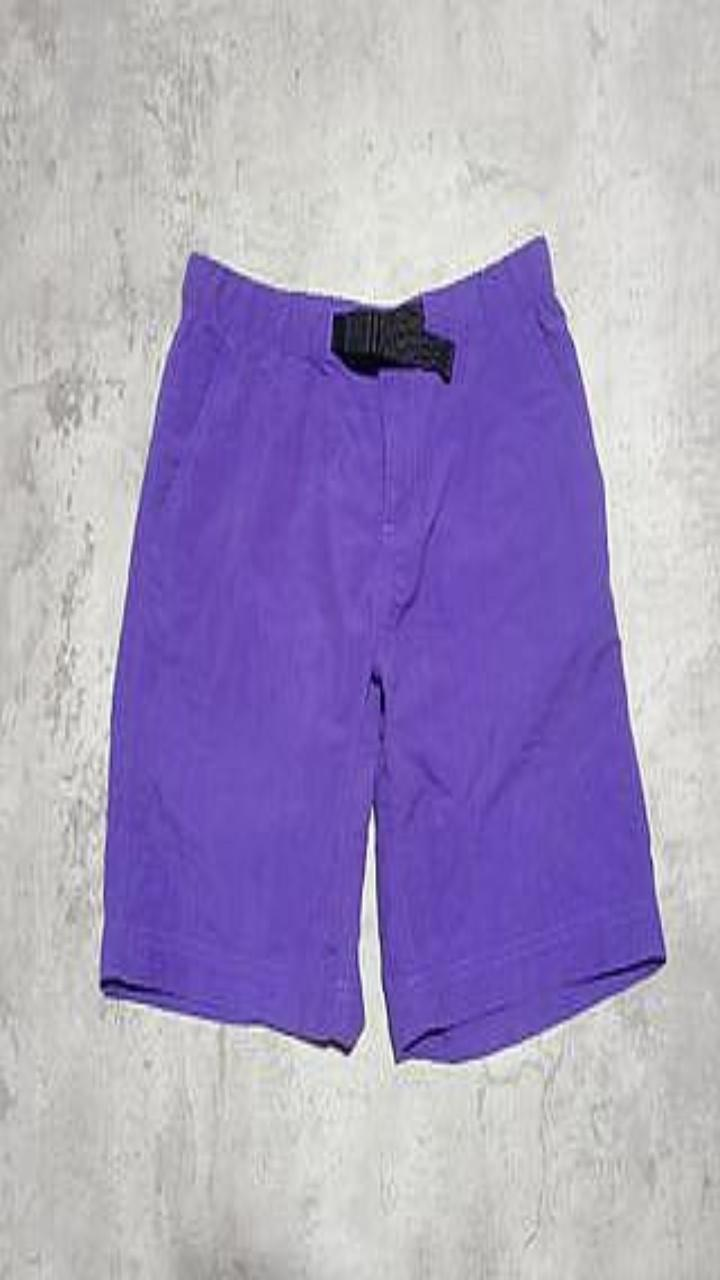Shorts: (100, 236, 664, 1060)
